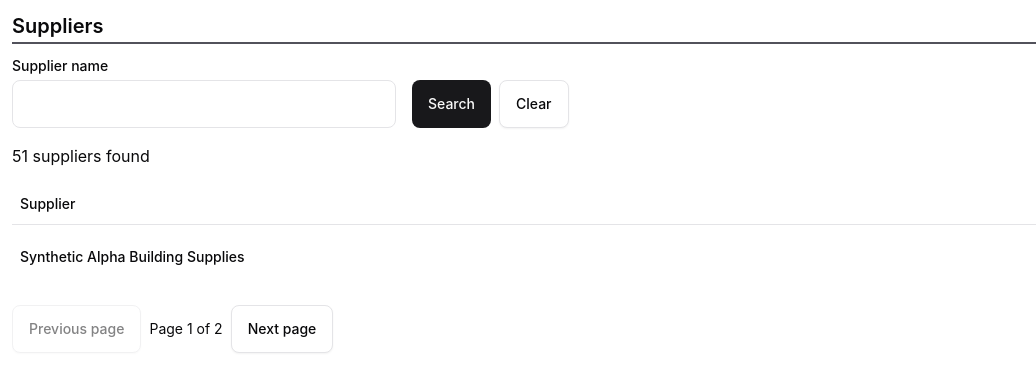
Test: 4.4 suppliers list and supplier page › lists suppliers by name with paging, searches from page 1, and links each row
Check: the text "51 suppliers found" is shown, box [12,146,150,166]
# --- Paging: Next asks for page 2.
Click the button "Next page" at (282, 328), box [231,304,333,352]
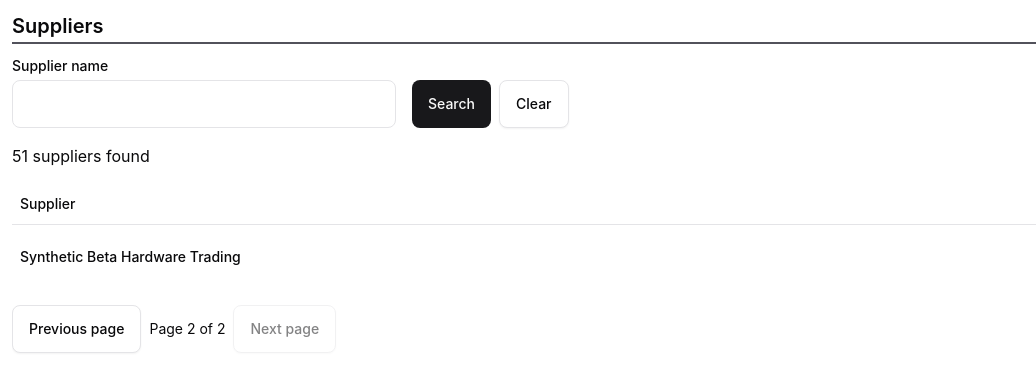
Check: the link "Synthetic Beta Hardware Trading" is shown, box [20,248,241,264]
# --- Search on Enter: trimmed, back to page 1, its own no-match copy.
Type "  beta " into the search field labelled "Supplier name" at (204, 104), box [12,80,396,128]
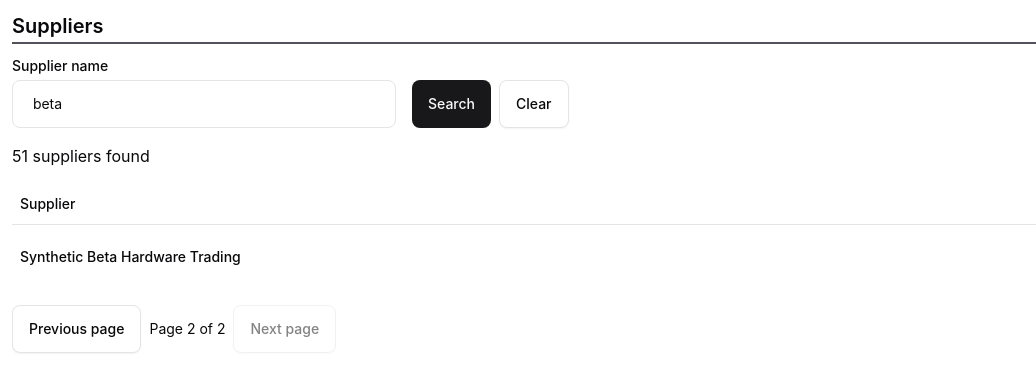
Submit the form labelled "Supplier name", box [12,57,568,128]
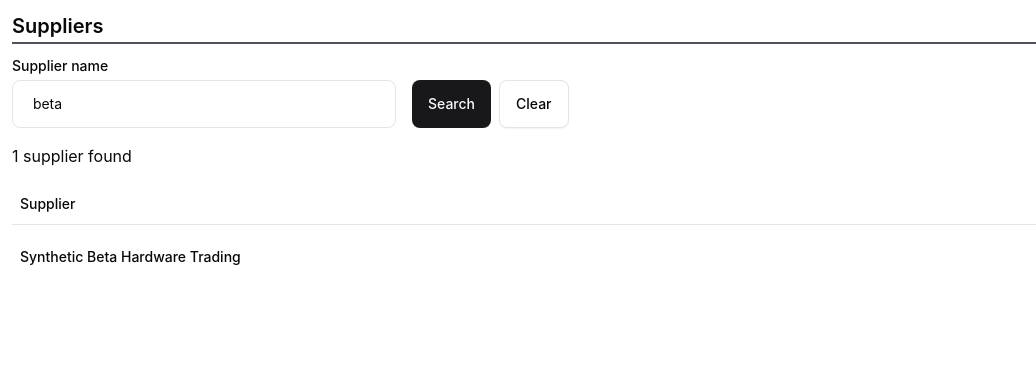
Check: the text "1 supplier found" is shown, box [12,146,132,166]
Replace the text in the search field labelled "Supplier name" with "zzz" at (204, 104), box [12,80,396,128]
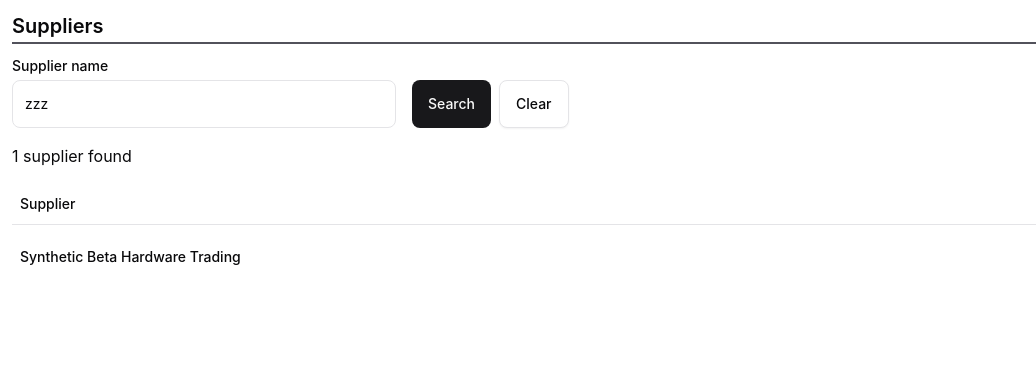
Click the button "Search" at (452, 104), box [412,80,491,128]
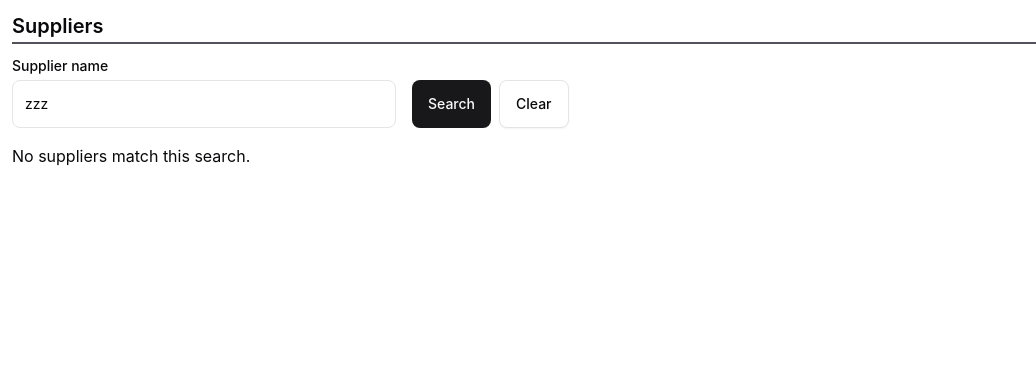
Check: the text "No suppliers match this search." is shown, box [12,146,250,166]
